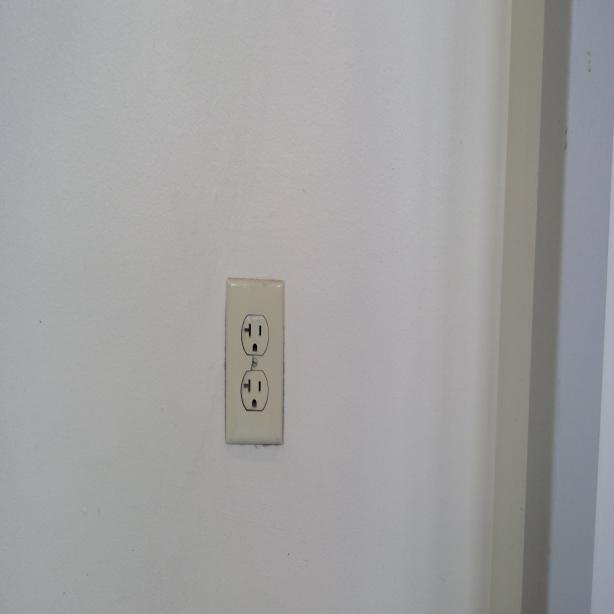typeb: (240, 371, 270, 416), (241, 313, 268, 356)
